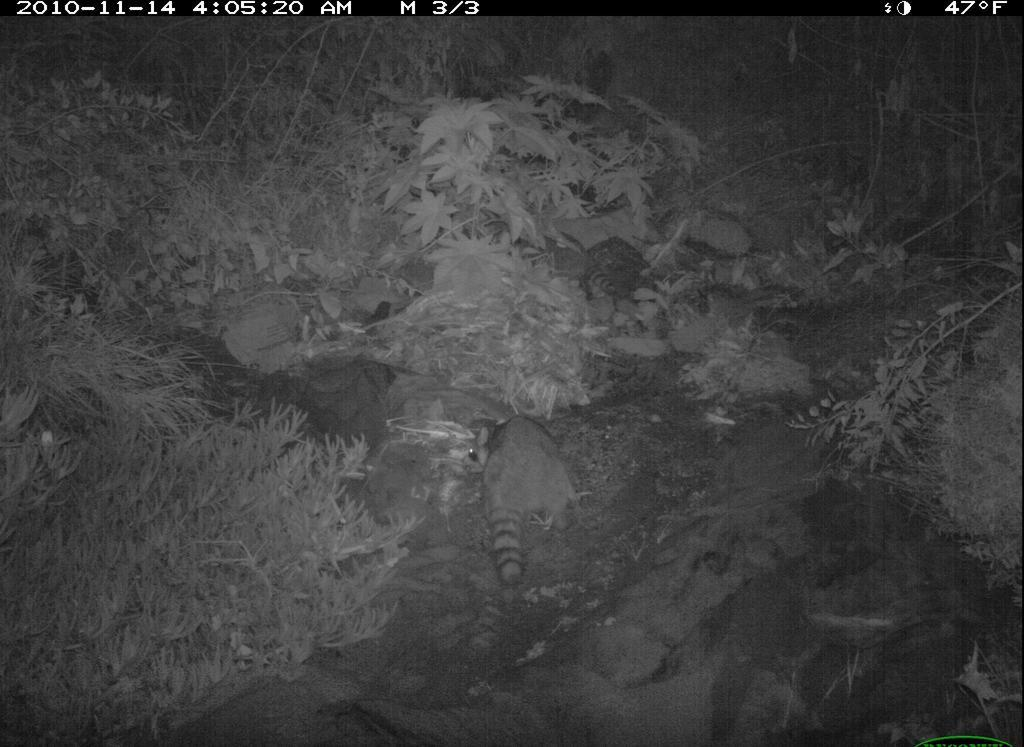raccoon: (460, 393, 589, 603)
